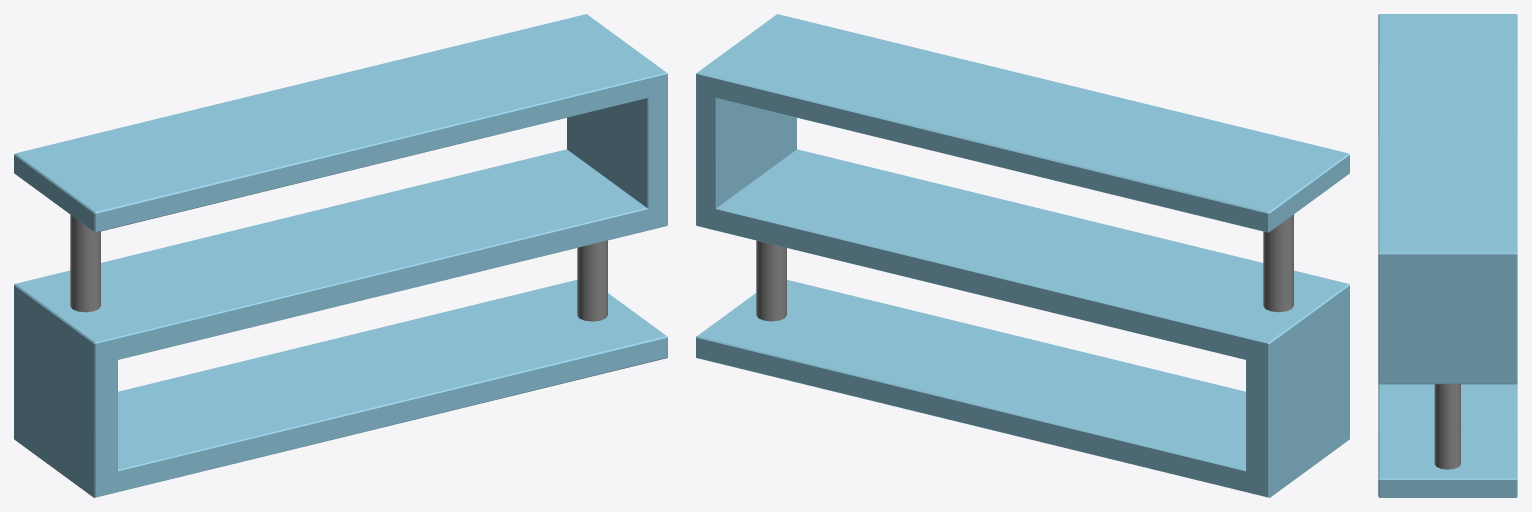
Rendered from FURNITURE_tvStand_02.FBX.
The picture shows the model from 3 angles, left to right: view 1: azimuth 30°, elevation 25°; view 2: azimuth 150°, elevation 25°; view 3: azimuth 270°, elevation 25°; orthographic projection. The views are drawn at different scales.
Parts seen in each view (by area): view 1: PROP_tvStand_02; view 2: PROP_tvStand_02; view 3: PROP_tvStand_02.
Boxes of the visible parts, <box> form: PROP_tvStand_02: <box>14,14,667,497</box>; PROP_tvStand_02: <box>696,14,1349,497</box>; PROP_tvStand_02: <box>1378,14,1517,497</box>.
Bounding box in the file's own units: 180 × 85.5 × 44.17.
